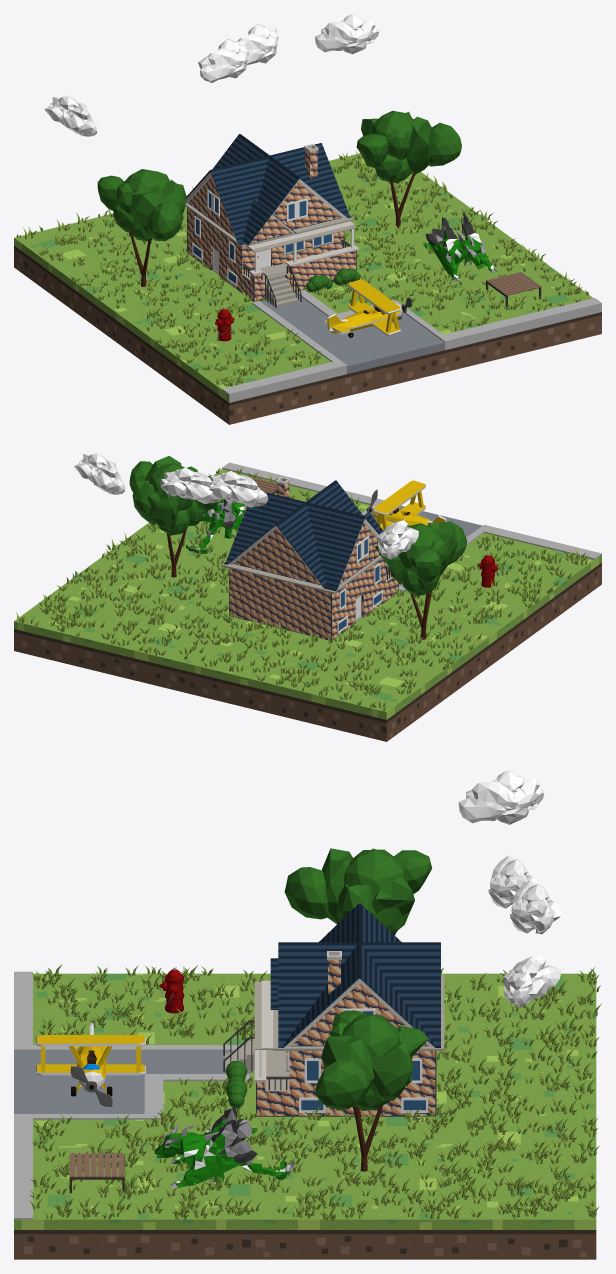
The picture shows the model from 3 angles, top to bottom: view 1: azimuth 30°, elevation 25°; view 2: azimuth 150°, elevation 25°; view 3: azimuth 270°, elevation 25°; orthographic projection. The views are drawn at different scales.
Visible parts, largest first — view 1: Cube.006, Cube.430, Circle.012_Grass_0.192, Cube.007, tree, tree.001, VEHICLES_AIRPLANE, ANIMAL_DRAGON, Cube.009; view 2: Cube.006, Cube.430, Circle.012_Grass_0.192, Cube.007, tree.001, tree, VEHICLES_AIRPLANE, ANIMAL_DRAGON, OBJRANDOM_FIRE_HYDRANT; view 3: Cube.006, Circle.012_Grass_0.192, Cube.430, tree, Cube.007, tree.001, ANIMAL_DRAGON, VEHICLES_AIRPLANE, Cube.009, OBJRANDOM_FIRE_HYDRANT.
Part boxes in pixels (x1,y1,x2,y2): Cube.006: [14, 153, 601, 424]; Cube.430: [185, 134, 359, 308]; Circle.012_Grass_0.192: [16, 150, 588, 386]; Cube.007: [44, 14, 378, 136]; tree: [356, 110, 461, 228]; tree.001: [97, 169, 186, 286]; VEHICLES_AIRPLANE: [325, 279, 412, 337]; ANIMAL_DRAGON: [425, 212, 497, 281]; Cube.009: [486, 272, 541, 306]; Cube.006: [14, 462, 601, 741]; Cube.430: [221, 477, 398, 640]; Circle.012_Grass_0.192: [16, 468, 588, 711]; Cube.007: [74, 453, 418, 559]; tree.001: [375, 521, 467, 639]; tree: [129, 456, 216, 577]; VEHICLES_AIRPLANE: [366, 480, 447, 530]; ANIMAL_DRAGON: [186, 499, 245, 553]; OBJRANDOM_FIRE_HYDRANT: [478, 554, 498, 587]; Cube.006: [14, 971, 596, 1259]; Circle.012_Grass_0.192: [29, 964, 601, 1220]; Cube.430: [223, 903, 444, 1116]; tree: [315, 1010, 428, 1171]; Cube.007: [458, 770, 561, 1007]; tree.001: [284, 848, 432, 935]; ANIMAL_DRAGON: [154, 1105, 295, 1187]; VEHICLES_AIRPLANE: [36, 1023, 145, 1106]; Cube.009: [69, 1153, 124, 1193]; OBJRANDOM_FIRE_HYDRANT: [160, 967, 184, 1013].
Bounding box in the file's own units: 4071 × 2277 × 4040.
39 materials, 4 textured.
